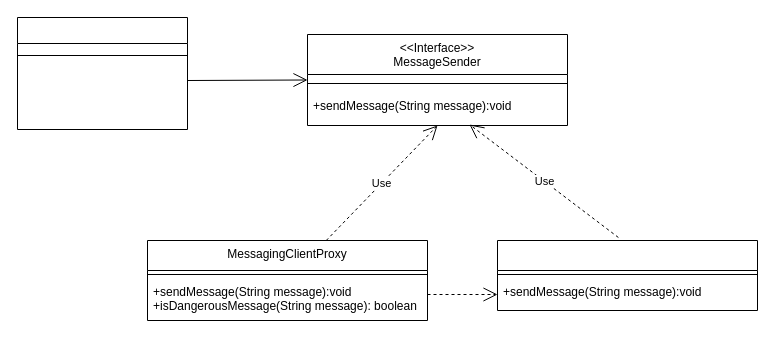
The diagram is 775 pixels wide and 341 high, and some of its shapes have lost their labels. The shapes that lost their labels are listed below. From the top down, each one's box as (x1, y1, x2, y2) in pixels, then its label:
(16, 16, 188, 130): GuasappProgramLauncher
(496, 240, 758, 310): MessagingClient
